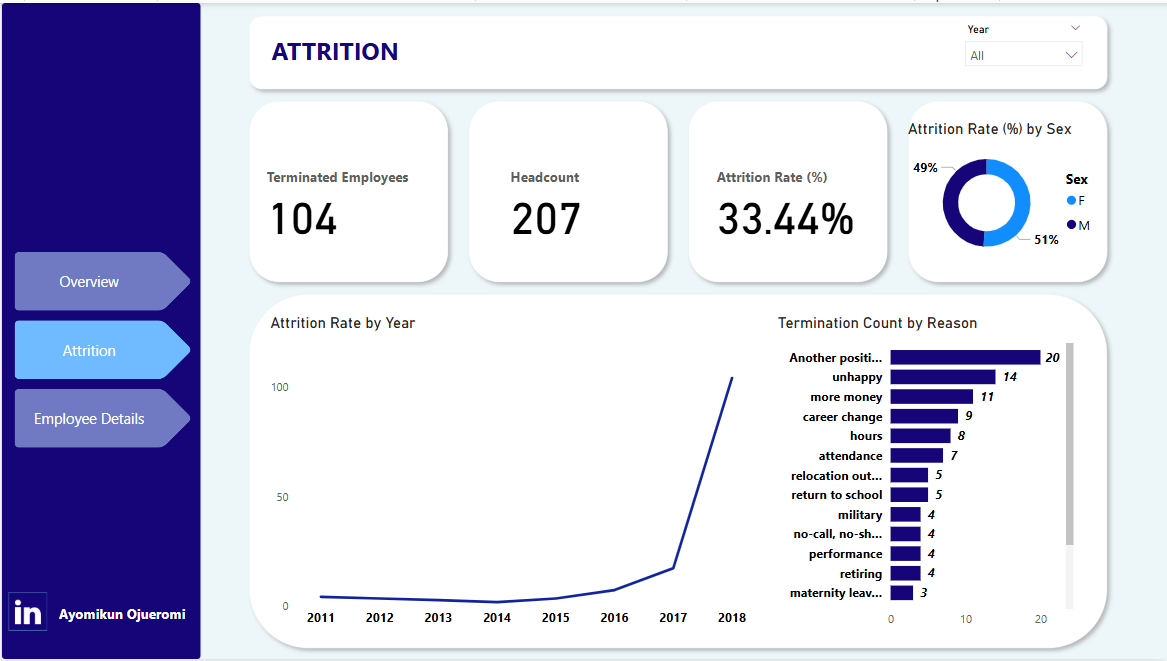

What the dashboard file says about the page in this screenshot:
{"tool":"powerbi","page":{"name":"Attrition","canvas":[1280,720],"ordinal":1},"visuals":[{"type":"cardVisual","fields":{"Data":["_measures.Terminated Employees"]},"box":[278.8,151.2,188.1,141.1],"z":0},{"type":"cardVisual","fields":{"Data":["_measures.Attrition Rate (%)"]},"box":[772.7,151.2,188.1,141.1],"z":1000},{"type":"slicer","fields":{"Values":["Date Table.Year"]},"box":[1046.5,16.8,149.5,77.3],"z":2000},{"type":"textbox","box":[290.6,28.6,176.4,53.8],"z":3000},{"type":"cardVisual","fields":{"Data":["_measures.Active Employees"]},"box":[545.9,151.2,188.1,141.1],"z":4000},{"type":"donutChart","fields":{"Y":["_measures.Attrition Rate (%)"],"Category":["HRDataset.Sex"]},"box":[989.4,127.7,228.5,164.6],"z":5000},{"type":"lineChart","fields":{"Category":["Date Table.Year","Date Table.Month Name"],"Y":["_measures.Attrition Rate"]},"box":[290,340,542.9,354.3],"z":6000},{"type":"barChart","title":"Termination Count by Reason","fields":{"Y":["_measures.Terminated Count"],"Category":["HRDataset.TermReason"]},"box":[847.1,340,334.3,354.3],"z":7000},{"type":"image","box":[0,640,57.1,57.1],"z":8000},{"type":"pageNavigator","box":[13.3,273.3,196,216],"z":9000},{"type":"textbox","box":[57.3,656,196,37.3],"z":10000},{"type":"actionButton","box":[61.7,649.1,148.2,39.8],"z":10001}]}

Visuals, with their boxes on the page's 1280x720 design canvas (x1, y1, x2, y2). These are canvas units, not pixel positions in the 1167x661 screenshot, which may show the page scaled, cropped or inside an application window:
cardVisual - _measures.Terminated Employees: <bbox>279, 151, 467, 292</bbox>
cardVisual - _measures.Attrition Rate (%): <bbox>773, 151, 961, 292</bbox>
slicer - Date Table.Year: <bbox>1046, 17, 1196, 94</bbox>
textbox: <bbox>291, 29, 467, 82</bbox>
cardVisual - _measures.Active Employees: <bbox>546, 151, 734, 292</bbox>
donutChart - _measures.Attrition Rate (%) x HRDataset.Sex: <bbox>989, 128, 1218, 292</bbox>
lineChart - Date Table.Year x Date Table.Month Name: <bbox>290, 340, 833, 694</bbox>
"Termination Count by Reason" barChart: <bbox>847, 340, 1181, 694</bbox>
image: <bbox>0, 640, 57, 697</bbox>
pageNavigator: <bbox>13, 273, 209, 489</bbox>
textbox: <bbox>57, 656, 253, 693</bbox>
actionButton: <bbox>62, 649, 210, 689</bbox>
